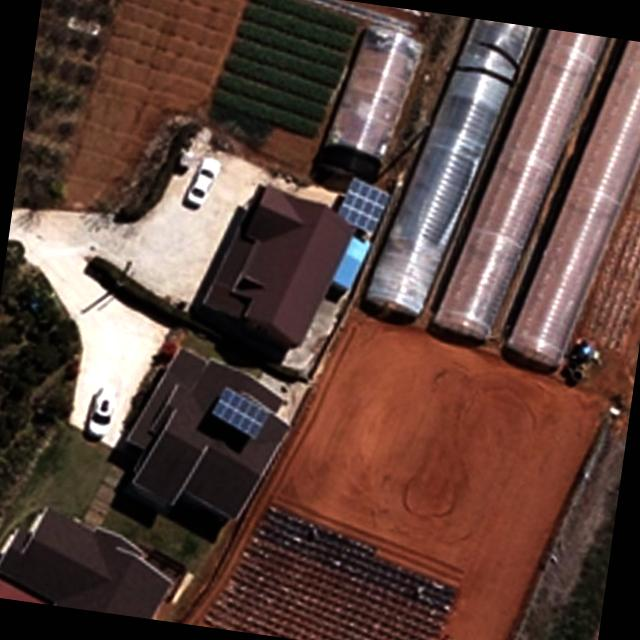solar: (208, 385, 276, 444), (333, 175, 395, 238)
